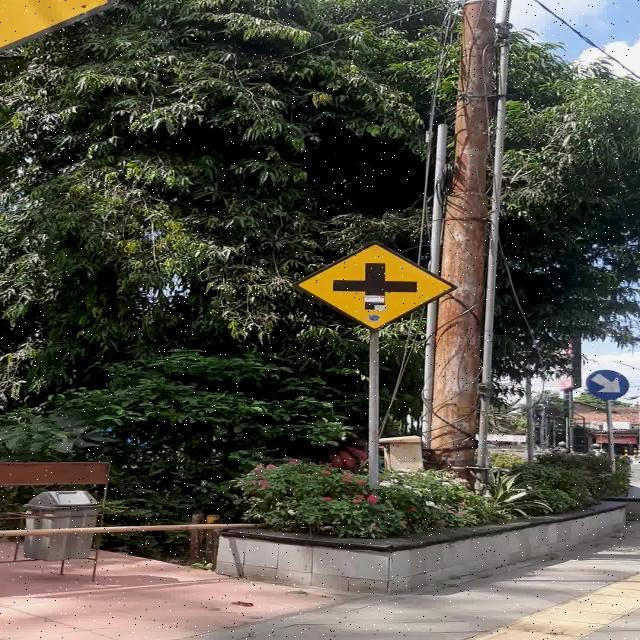Persimpangan 4: (292, 240, 457, 332)
